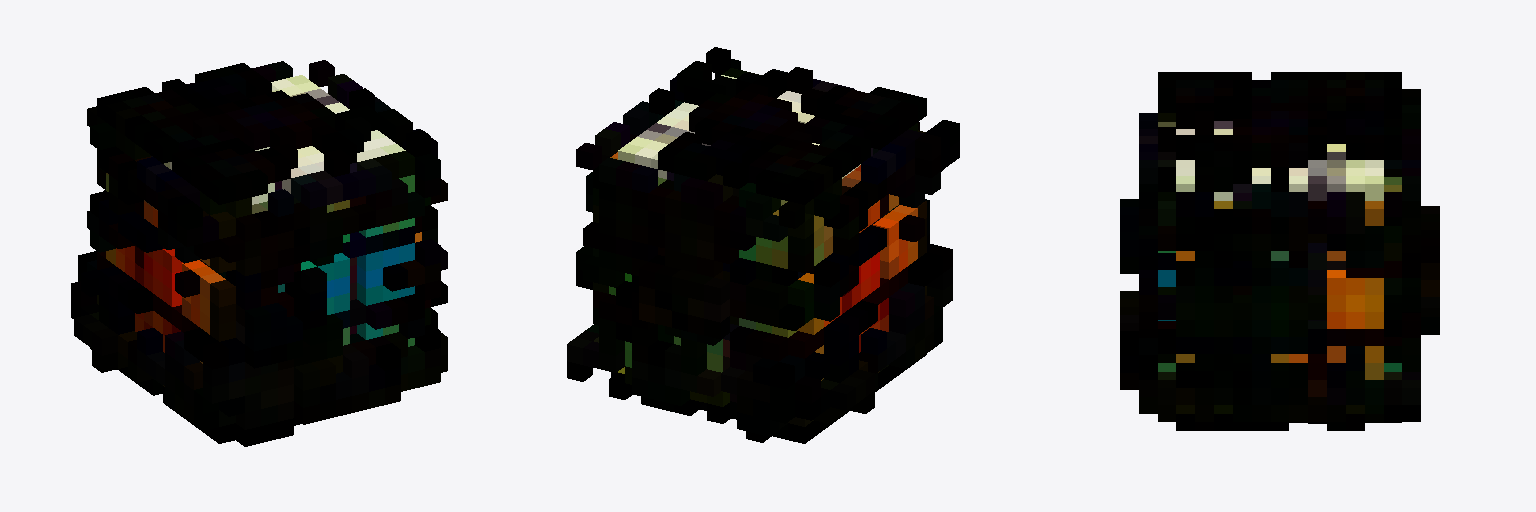
File: iter_70.obj
The picture shows the model from 3 angles: view 1: azimuth 30°, elevation 25°; view 2: azimuth 150°, elevation 25°; view 3: azimuth 270°, elevation 25°; orthographic projection.
Visible parts, largest first — view 1: iter_70; view 2: iter_70; view 3: iter_70.
Part boxes in pixels (x1,y1,x2,y2): iter_70: (71,60,447,446); iter_70: (567,47,959,443); iter_70: (1120,72,1439,430).
Size of the model in its own units: 1.6 by 1.6 by 1.7.